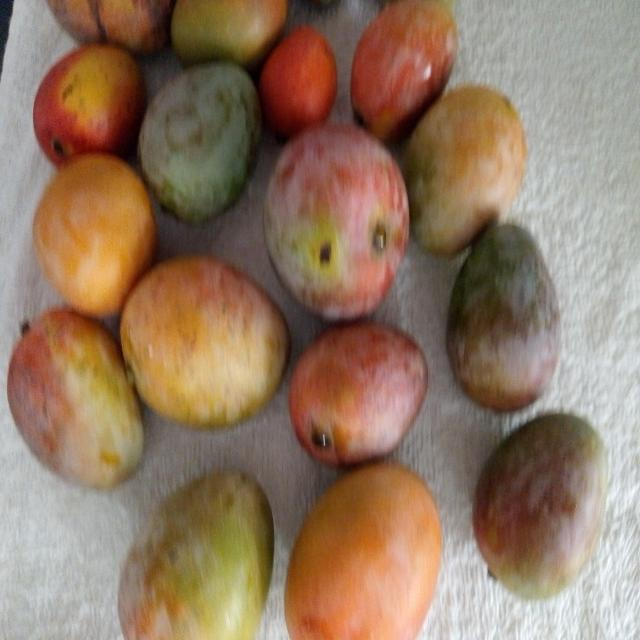mango: (121, 256, 289, 427), (264, 123, 408, 319), (285, 463, 441, 639), (118, 472, 274, 639), (473, 414, 607, 598), (7, 308, 143, 488), (403, 85, 526, 256), (447, 224, 560, 410), (289, 321, 427, 465), (139, 62, 261, 222), (351, 0, 458, 142), (33, 44, 146, 165), (171, 0, 287, 67), (47, 0, 175, 53)
